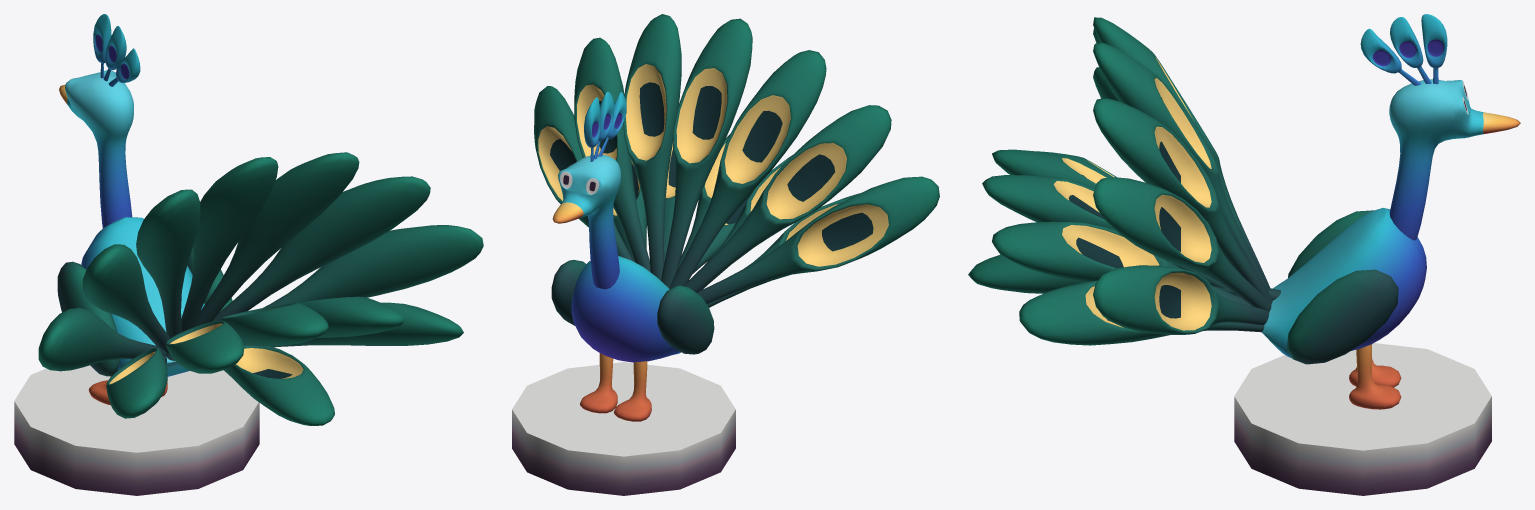
The model's file is Statue Merak.fbx.
The picture shows the model from 3 angles, left to right: view 1: azimuth 30°, elevation 25°; view 2: azimuth 150°, elevation 25°; view 3: azimuth 270°, elevation 25°; orthographic projection. The views are drawn at different scales.
Parts seen in each view (by area): view 1: Statue Merak; view 2: Statue Merak; view 3: Statue Merak.
Part boxes in pixels (box(x1,y1,x2,y2)): Statue Merak: box(14, 14, 483, 495); Statue Merak: box(512, 14, 939, 495); Statue Merak: box(968, 14, 1520, 495).
Bounding box in the file's own units: 635 × 563 × 659.
2 materials, 2 textured.
